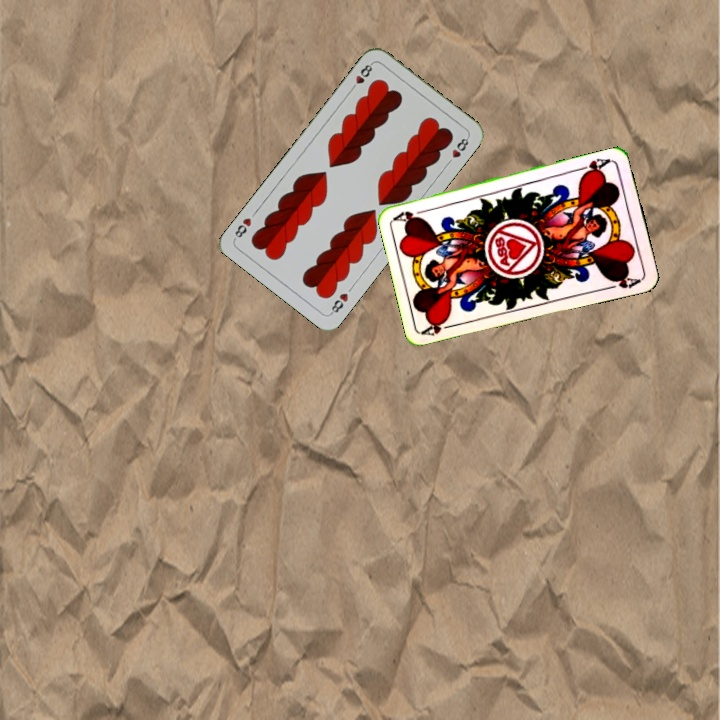H8: (346, 59, 376, 94), (326, 289, 351, 317)
HA: (574, 154, 614, 179), (419, 315, 460, 338)
